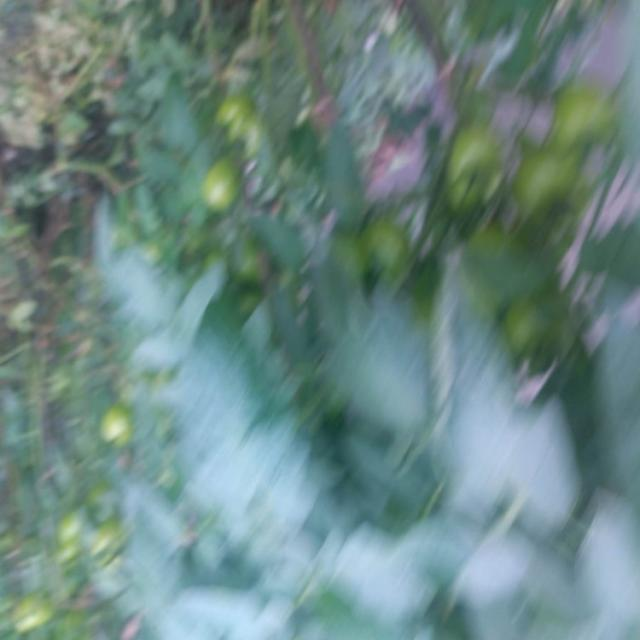tomato: (505, 148, 614, 230), (546, 63, 638, 157), (435, 114, 511, 207), (499, 277, 561, 356), (363, 222, 438, 281), (195, 148, 255, 218), (326, 229, 392, 278), (51, 510, 95, 556), (220, 89, 258, 142), (100, 408, 130, 448)
